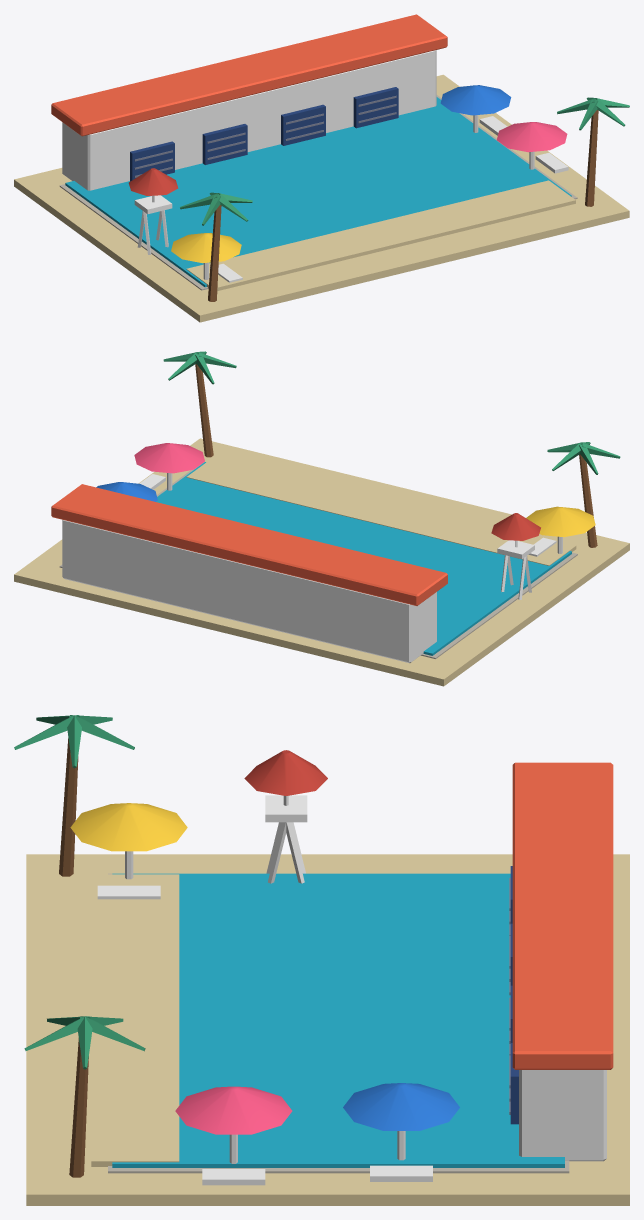
Rendered from wave-pool.glb.
The picture shows the model from 3 angles, top to bottom: view 1: azimuth 30°, elevation 25°; view 2: azimuth 150°, elevation 25°; view 3: azimuth 270°, elevation 25°; orthographic projection. The views are drawn at different scales.
Parts seen in each view (by area): view 1: model; view 2: model; view 3: model.
Boxes of the visible parts, x1,y1,x2,y2 form: model: [14, 14, 629, 322]; model: [14, 351, 629, 686]; model: [14, 715, 629, 1205].
Size of the model in its own units: 4 by 0.9379 by 2.94.
Materials: 1 (1 with a texture image).
